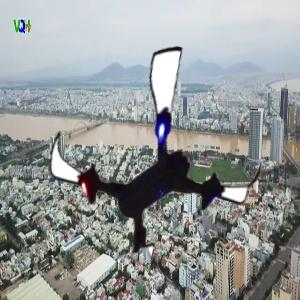drone: (44, 45, 267, 268)
